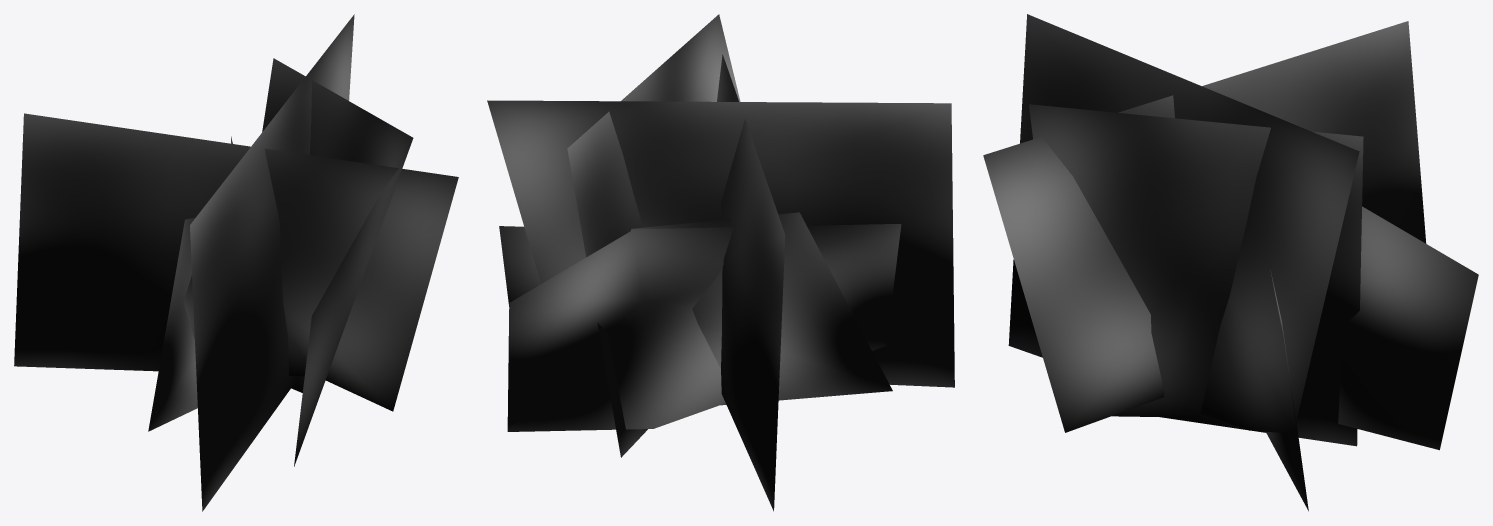
The model's file is SM_Grass_Patch.fbx.
3 views of the same model, side by side, from view 1: azimuth 30°, elevation 25°; view 2: azimuth 150°, elevation 25°; view 3: azimuth 270°, elevation 25° (orthographic). The views are drawn at different scales.
Parts seen in each view (by area): view 1: SM_Grass_Patch; view 2: SM_Grass_Patch; view 3: SM_Grass_Patch.
Boxes of the visible parts, x1,y1,x2,y2 form: SM_Grass_Patch: (14,14,458,511); SM_Grass_Patch: (487,14,954,511); SM_Grass_Patch: (983,14,1478,511).
Size of the model in its own units: 98.46 by 110 by 90.3.
1 material, 1 textured.
